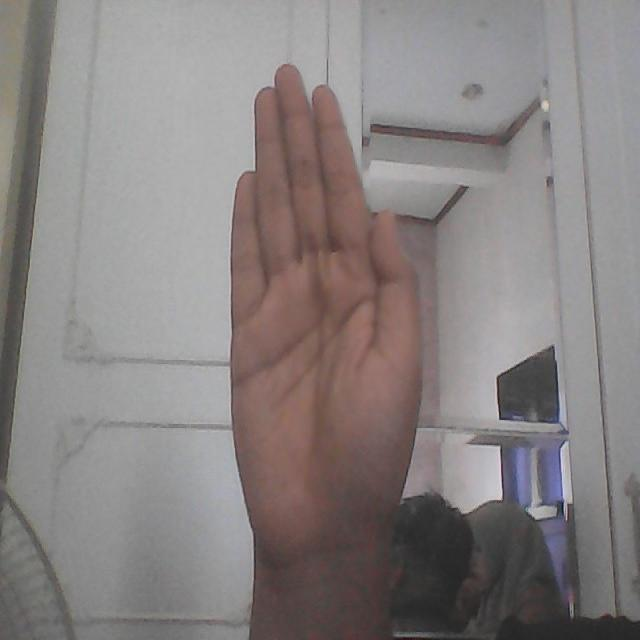hand: (208, 46, 447, 606)
